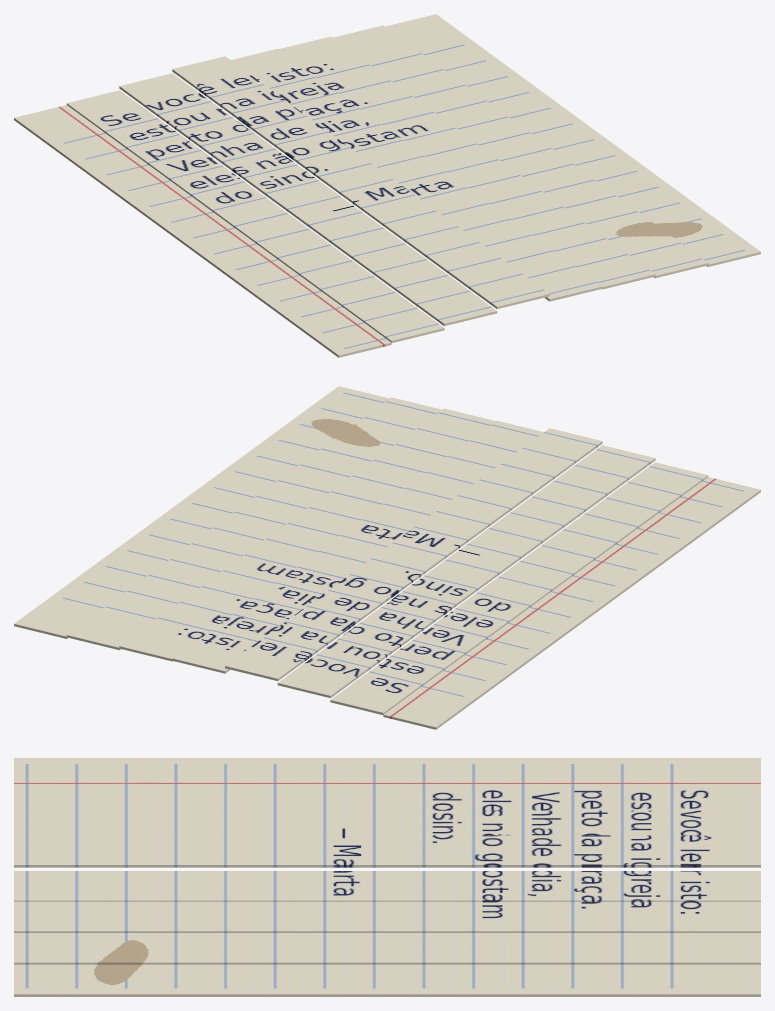
File: bilhete.glb
3 views of the same model, one above another, from view 1: azimuth 30°, elevation 25°; view 2: azimuth 150°, elevation 25°; view 3: azimuth 270°, elevation 25° (orthographic). The views are drawn at different scales.
Parts seen in each view (by area): view 1: bilhete_bilhete_img; view 2: bilhete_bilhete_img; view 3: bilhete_bilhete_img.
Boxes of the visible parts, x1=… form: bilhete_bilhete_img: x1=14, y1=14, x2=760, y2=357; bilhete_bilhete_img: x1=14, y1=386, x2=760, y2=729; bilhete_bilhete_img: x1=14, y1=758, x2=760, y2=996.
Size of the model in its own units: 0.1501 by 0.00421 by 0.2.
1 material, 1 textured.
